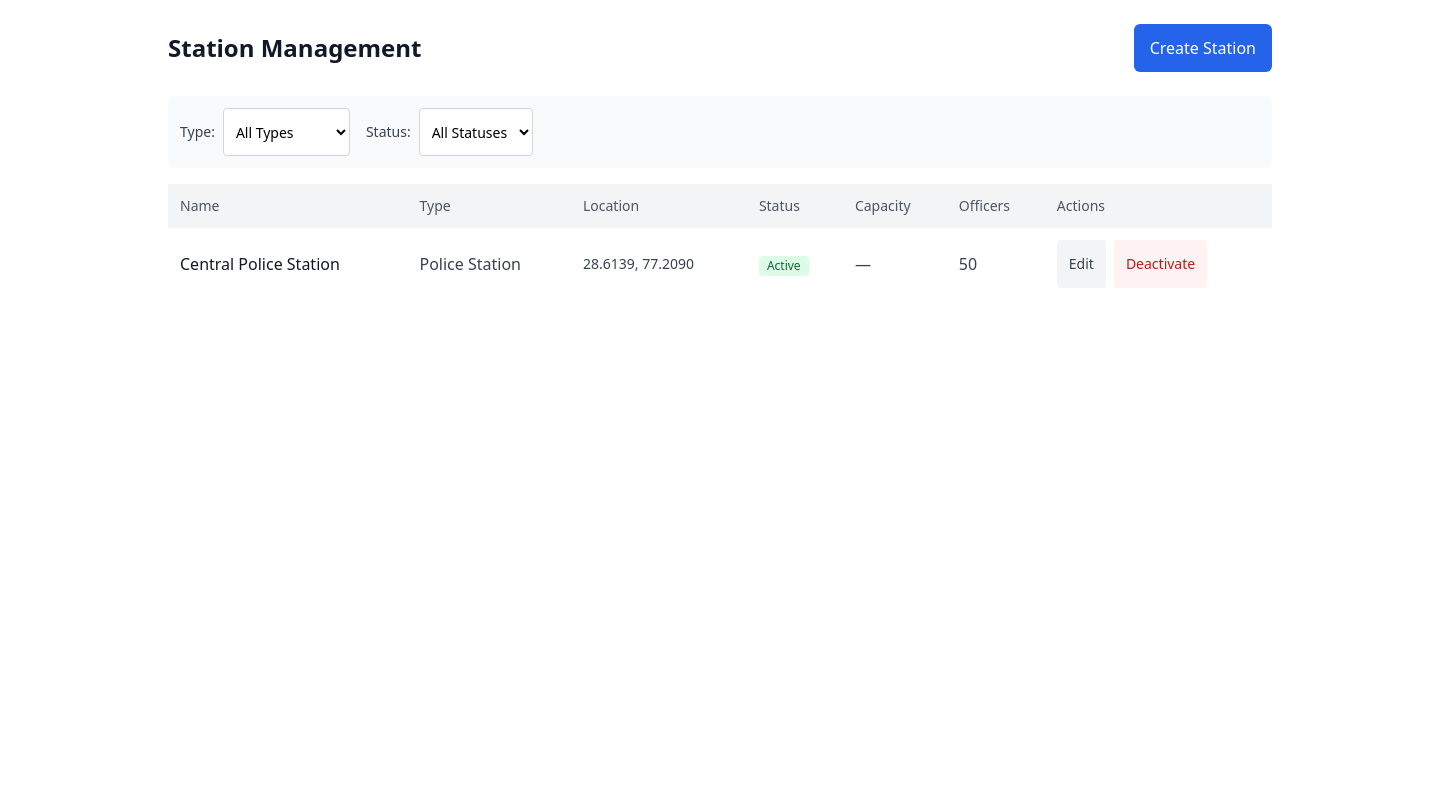
Test: StationManagement › dismisses deactivation dialog when Cancel is clicked
Click the button with test id "deactivate-btn-s1".
click(1161, 264)  # box [1114, 240, 1207, 288]
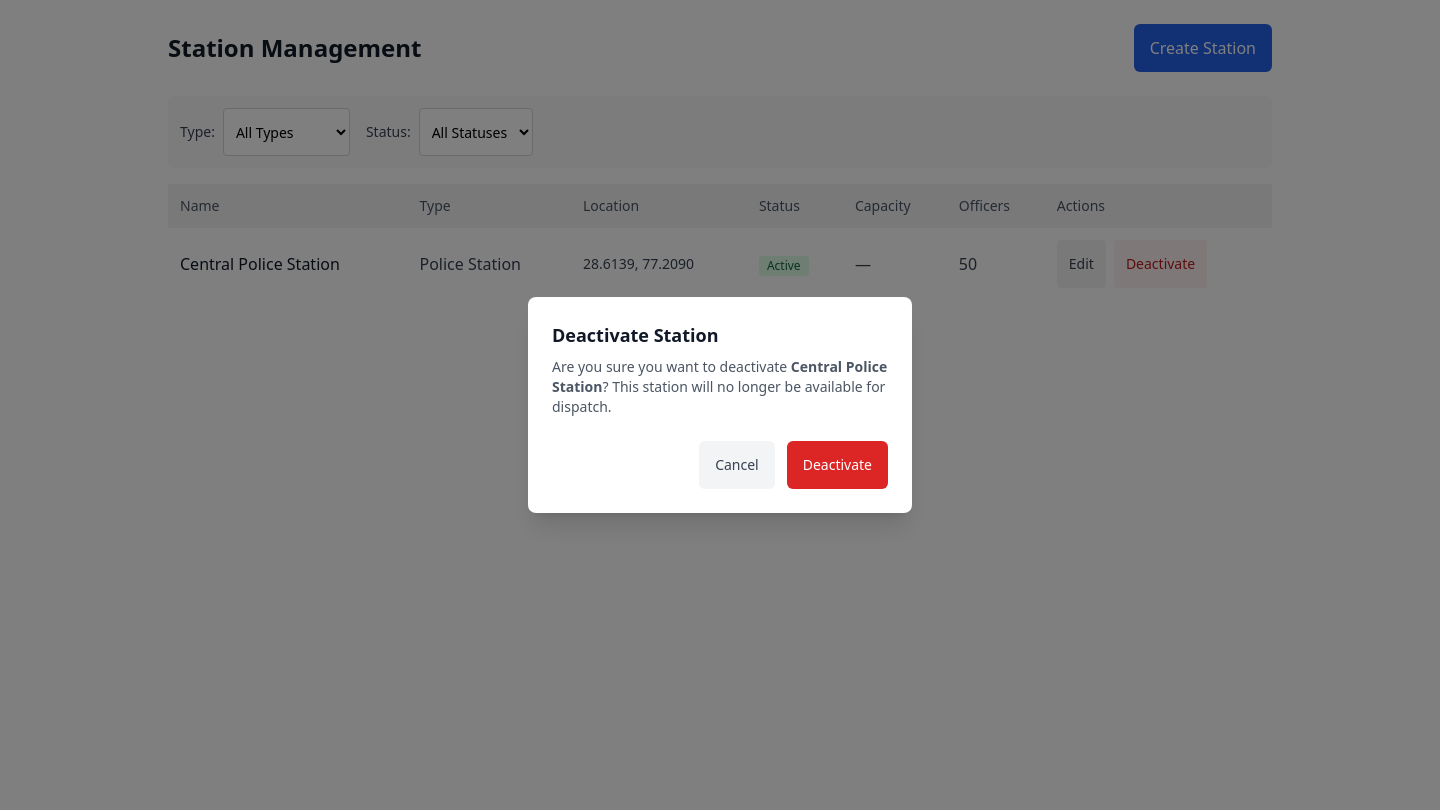
Expected: the dialog with test id "deactivate-dialog" is shown
Click the button with test id "deactivate-cancel-btn".
click(737, 465)  # box [699, 441, 775, 489]
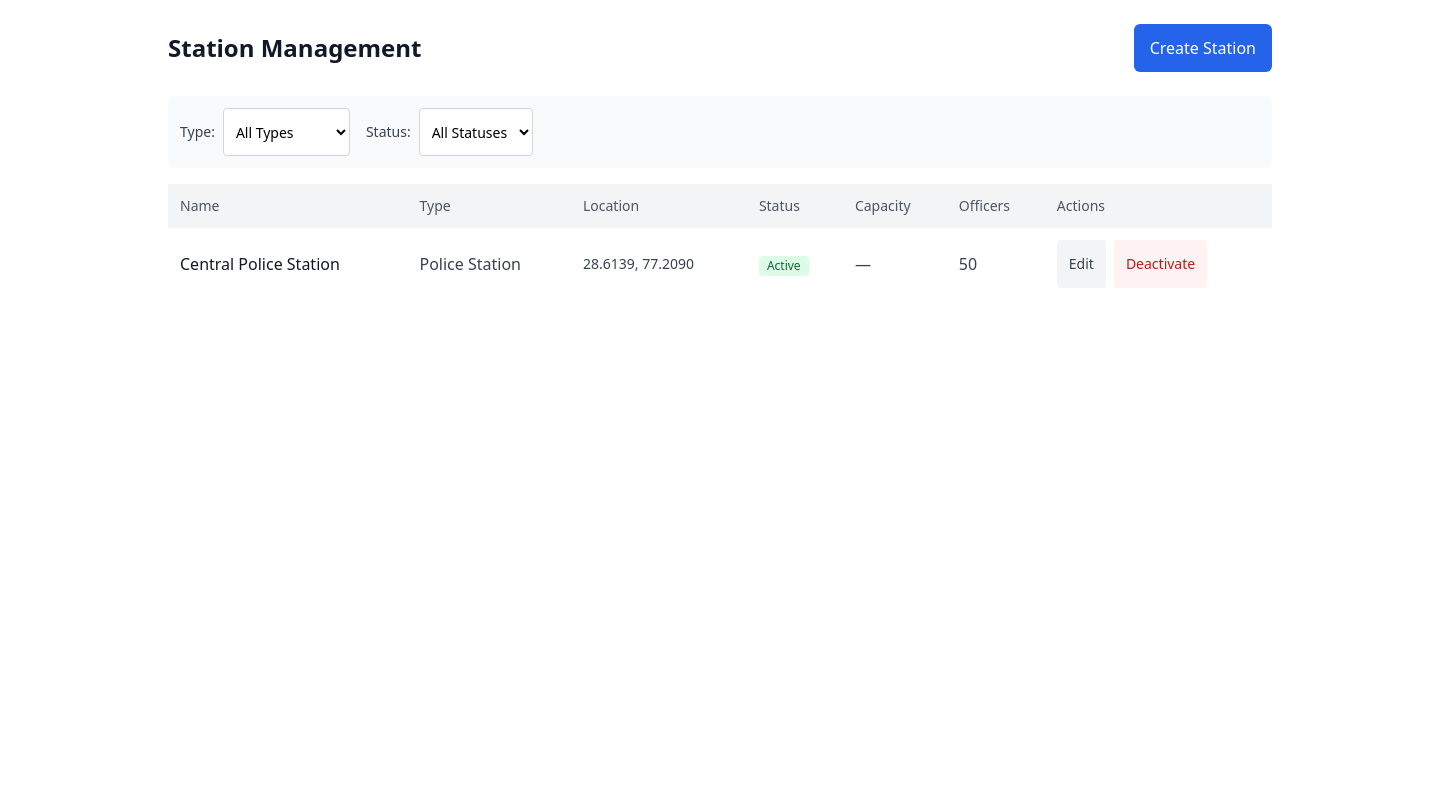
Expected: the dialog with test id "deactivate-dialog" is gone
